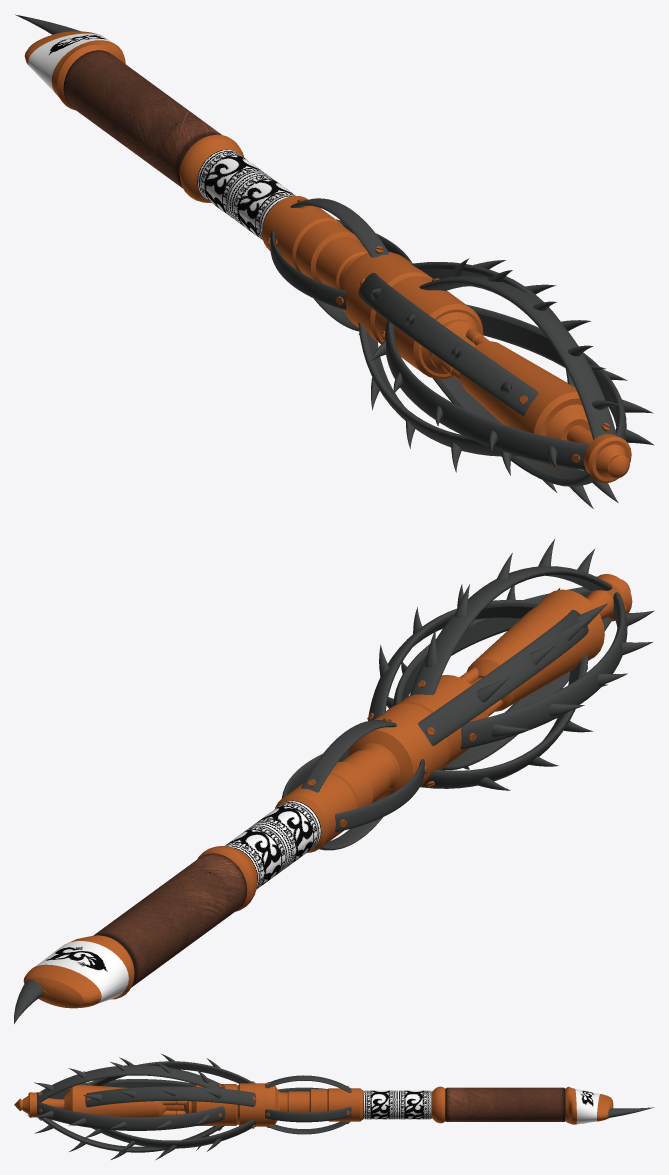
Rendered from morningstar.obj.
The picture shows the model from 3 angles, top to bottom: view 1: azimuth 30°, elevation 25°; view 2: azimuth 150°, elevation 25°; view 3: azimuth 270°, elevation 25°; orthographic projection. The views are drawn at different scales.
Parts seen in each view (by area): view 1: Object__0; view 2: Object__0; view 3: Object__0.
Part boxes in pixels (left/top/right/bottom): Object__0: left=15, top=14, right=654, bottom=508; Object__0: left=14, top=539, right=654, bottom=1023; Object__0: left=14, top=1054, right=654, bottom=1159.
Bounding box in the file's own units: 0.1255 × 0.1212 × 0.7127.
6 materials, 3 textured.
